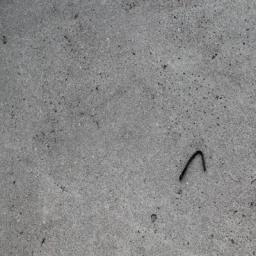FOD: (176, 150, 210, 184)
